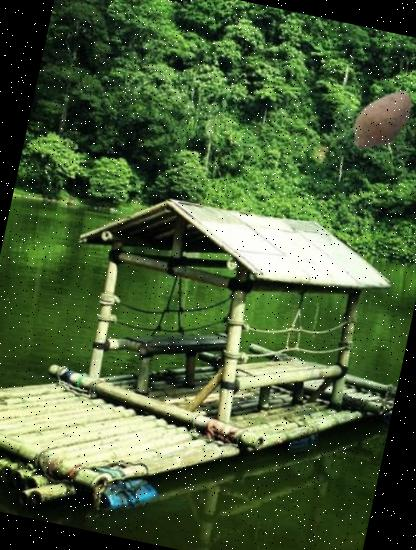Potato: (337, 75, 416, 166)
